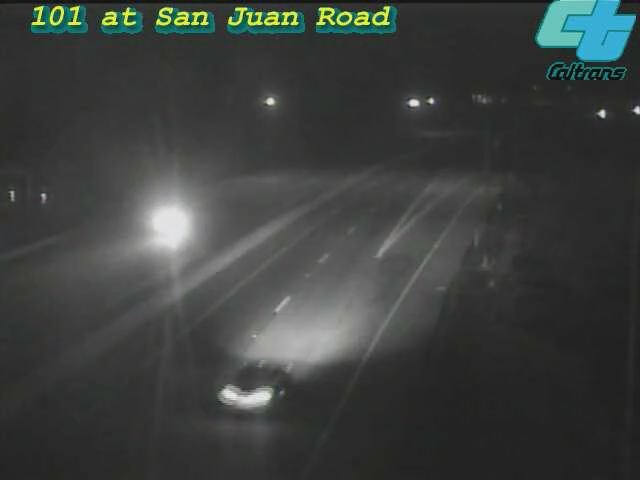vehicle: (196, 336, 306, 446), (127, 183, 207, 263), (580, 88, 630, 138)
